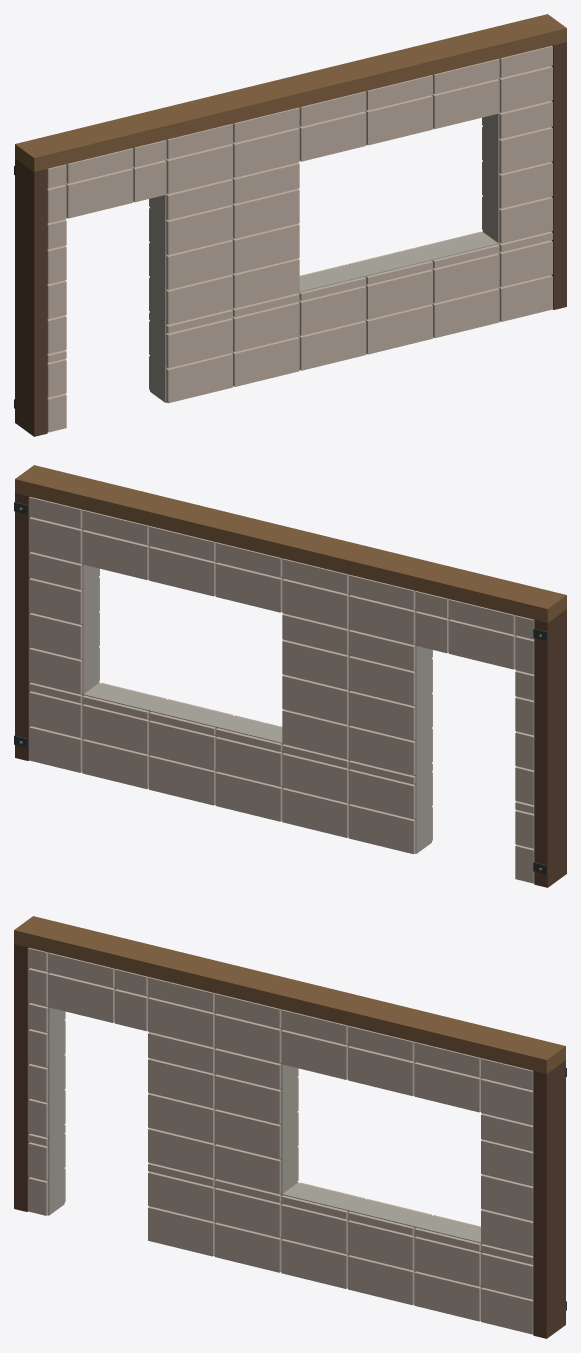
The model's file is visual-far.glb.
3 renders of one model, top to bottom at view 1: azimuth 30°, elevation 25°; view 2: azimuth 150°, elevation 25°; view 3: azimuth 330°, elevation 25°, orthographic.
Parts seen in each view (by area): view 1: 共享墙面用途 · fallback3; view 2: 共享墙面用途 · fallback3; view 3: 共享墙面用途 · fallback3.
Boxes of the visible parts, <box> form: 共享墙面用途 · fallback3: <box>14,14,566,436</box>; 共享墙面用途 · fallback3: <box>14,465,566,887</box>; 共享墙面用途 · fallback3: <box>14,916,566,1338</box>.
Bounding box in the file's own units: 6.4 × 3.2 × 0.44.
Materials: 6 (6 with a texture image).
